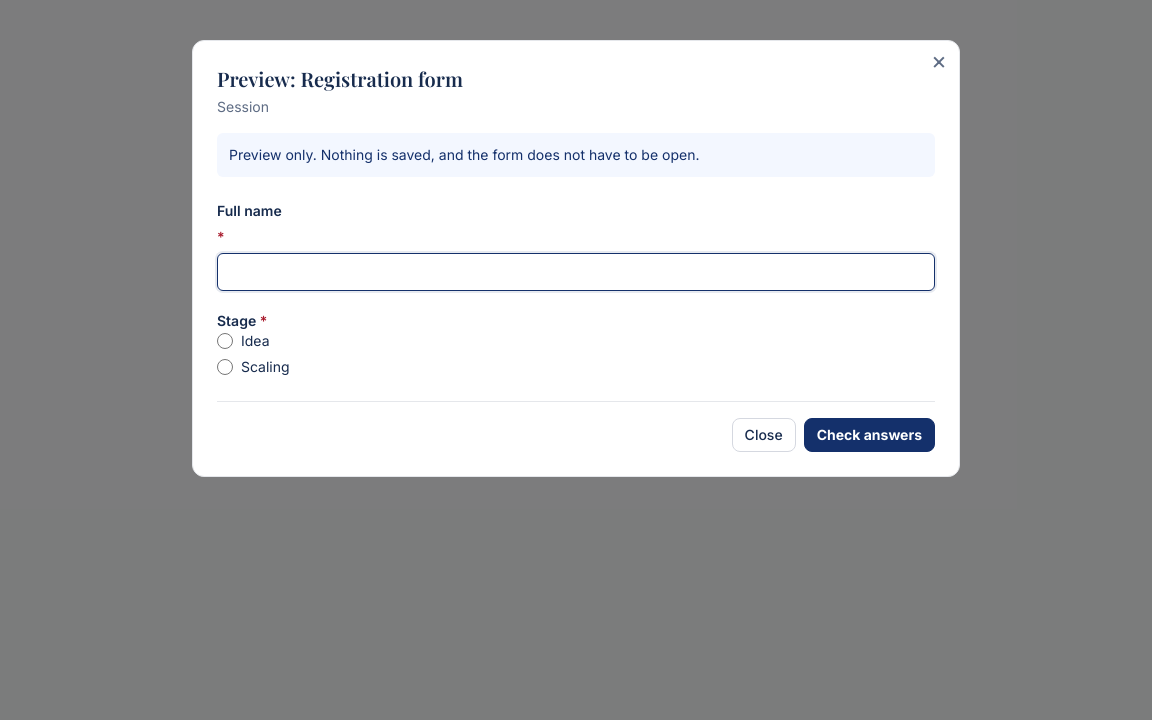
PreviewDialog › says nothing is saved and rejects a blank required answer
Expected: the text "Nothing is saved" is shown, [229,146,699,163]
Click the button "Check answers" at (869, 435), box [804,418,935,452]
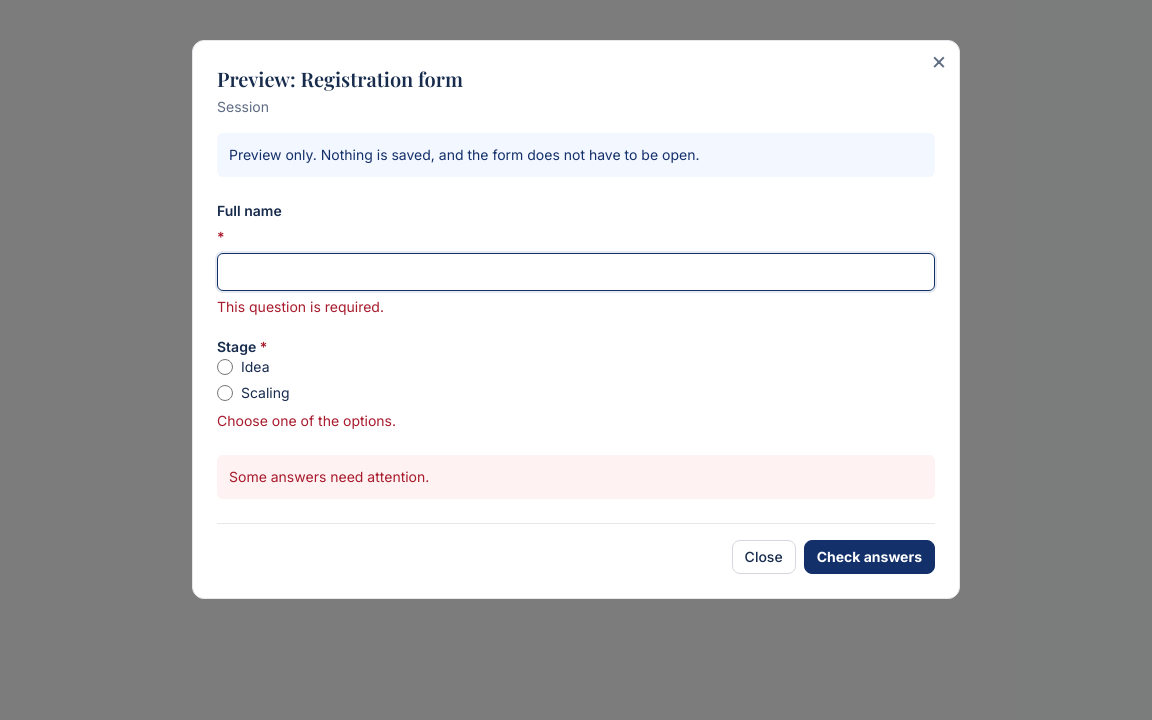
Result: the message reads "Some answers need attention." at [229,468,429,485]
